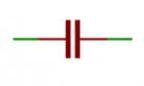Capacitor: (48, 15, 92, 64)
